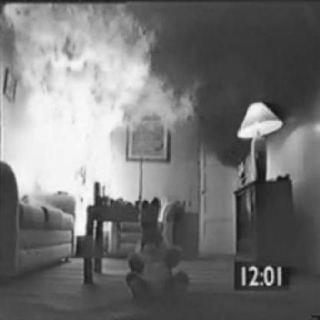other: (228, 98, 286, 142)
